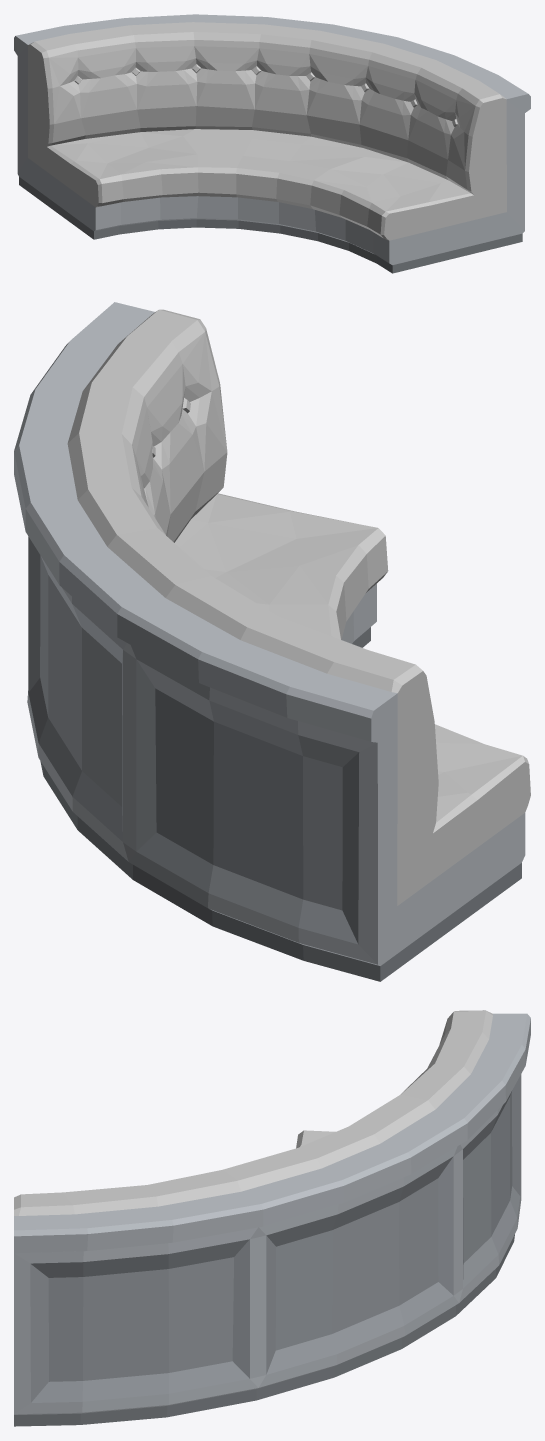
The model's file is SM_Prop_Sofa_03_Corner_04.fbx.
The picture shows the model from 3 angles, top to bottom: view 1: azimuth 30°, elevation 25°; view 2: azimuth 150°, elevation 25°; view 3: azimuth 270°, elevation 25°; orthographic projection. The views are drawn at different scales.
Visible parts, largest first — view 1: SM_Prop_Sofa_03_Corner_04; view 2: SM_Prop_Sofa_03_Corner_04; view 3: SM_Prop_Sofa_03_Corner_04.
Part boxes in pixels (left/top/right/bottom): SM_Prop_Sofa_03_Corner_04: left=14, top=14, right=530, bottom=273; SM_Prop_Sofa_03_Corner_04: left=14, top=302, right=530, bottom=981; SM_Prop_Sofa_03_Corner_04: left=14, top=1010, right=530, bottom=1426.
Bounding box in the file's own units: 250 × 111 × 250.
